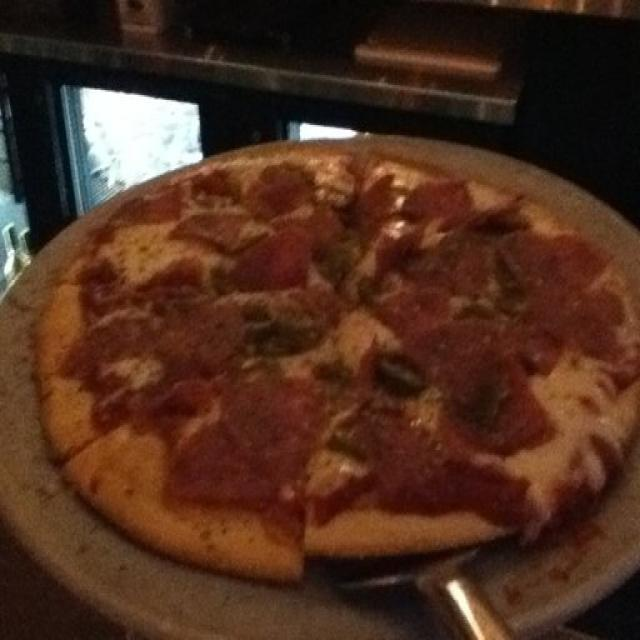Pepperoni: (506, 234, 608, 350), (223, 375, 327, 466), (178, 425, 276, 509), (469, 356, 550, 453), (414, 321, 490, 400), (366, 417, 434, 483), (177, 311, 245, 374), (426, 238, 484, 299), (242, 239, 310, 289), (379, 282, 446, 327), (259, 166, 313, 216), (283, 206, 341, 246), (364, 180, 394, 252), (408, 182, 468, 217), (188, 213, 238, 250)
Pizza: (42, 147, 640, 590)
